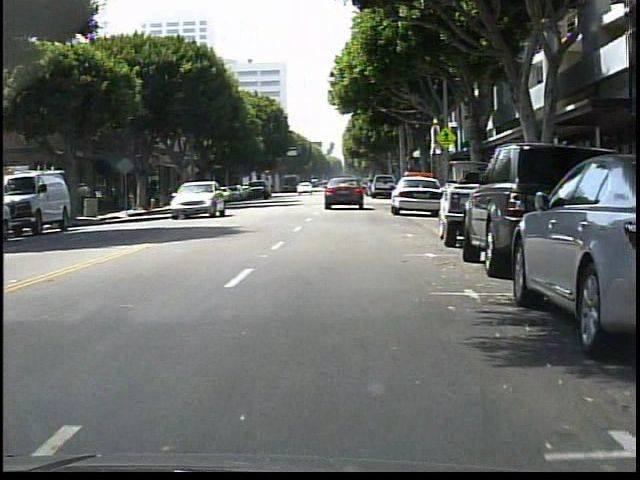person: (77, 179, 96, 220)
